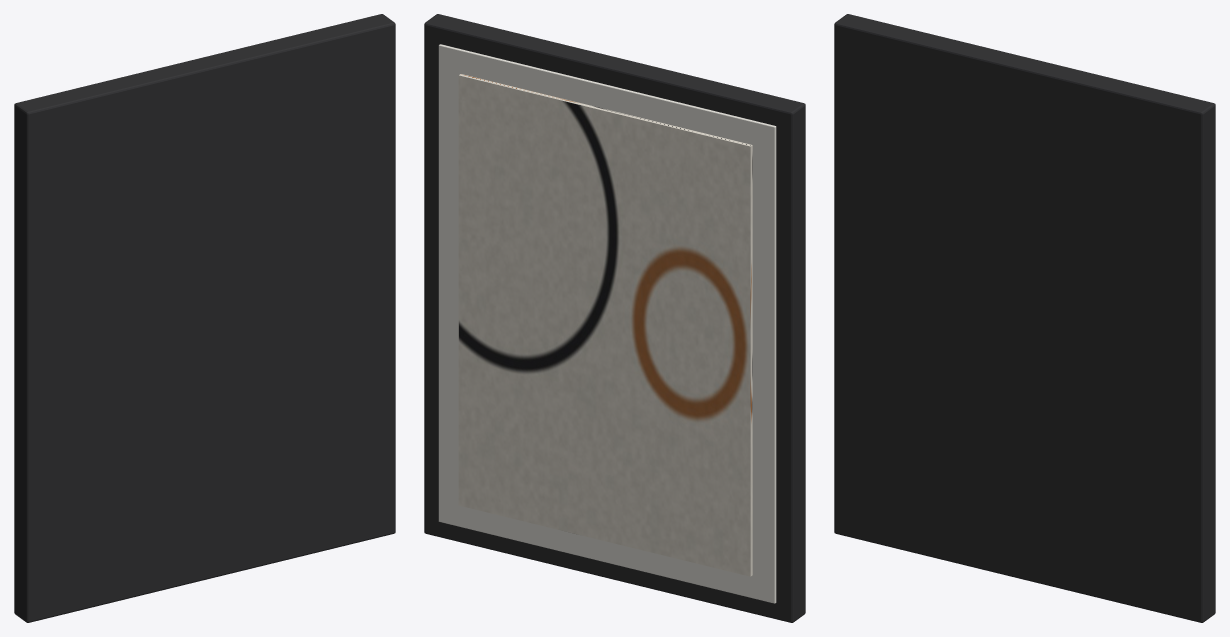
The model's file is corridor_art_2.glb.
The picture shows the model from 3 angles, left to right: view 1: azimuth 30°, elevation 25°; view 2: azimuth 150°, elevation 25°; view 3: azimuth 330°, elevation 25°; orthographic projection.
Visible parts, largest first — view 1: corridor_art_2; view 2: corridor_art_2; view 3: corridor_art_2.
Part boxes in pixels (x1,y1,x2,y2): corridor_art_2: (14, 14, 395, 622); corridor_art_2: (424, 14, 805, 622); corridor_art_2: (834, 14, 1215, 622).
Size of the model in its own units: 0.62 by 0.82 by 0.05.
Materials: 3 (1 with a texture image).
